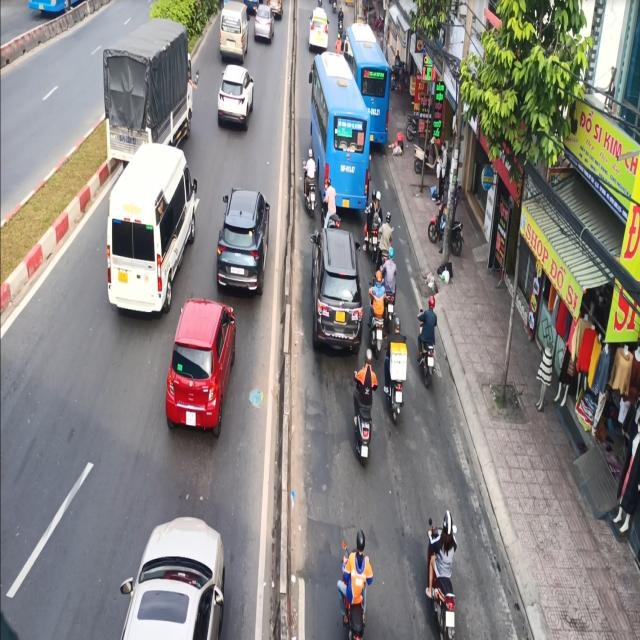bus: (309, 52, 370, 213)
car: (108, 146, 201, 315), (169, 288, 235, 445), (311, 223, 361, 357), (218, 176, 266, 300), (214, 59, 254, 131)
motor: (425, 505, 457, 640), (338, 518, 373, 639), (349, 346, 380, 466), (418, 282, 442, 379)
truck: (103, 23, 199, 154)
